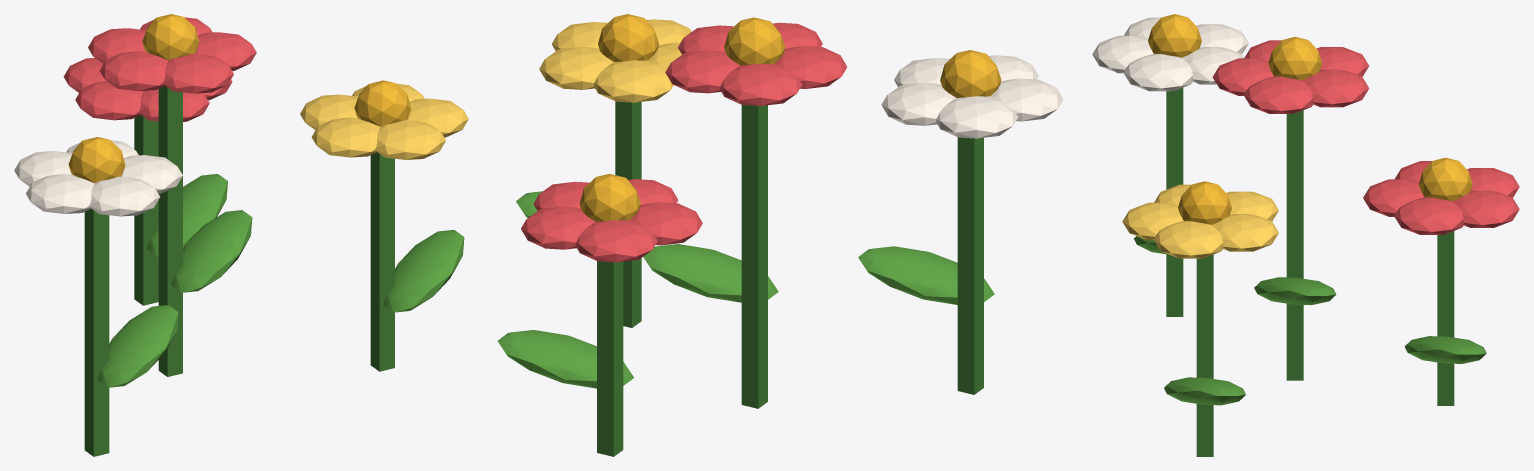
The model's file is flowers_a.glb.
3 renders of one model, left to right at view 1: azimuth 30°, elevation 25°; view 2: azimuth 150°, elevation 25°; view 3: azimuth 270°, elevation 25°, orthographic. The views are drawn at different scales.
Visible parts, largest first — view 1: flowers_a; view 2: flowers_a; view 3: flowers_a.
Part boxes in pixels (x1,y1,x2,y2): flowers_a: [14, 14, 468, 456]; flowers_a: [497, 14, 1063, 456]; flowers_a: [1092, 14, 1519, 456].
Size of the model in its own units: 0.3378 by 0.248 by 0.2843.
